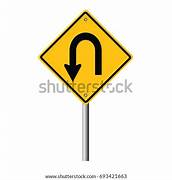back: (37, 8, 133, 106)
